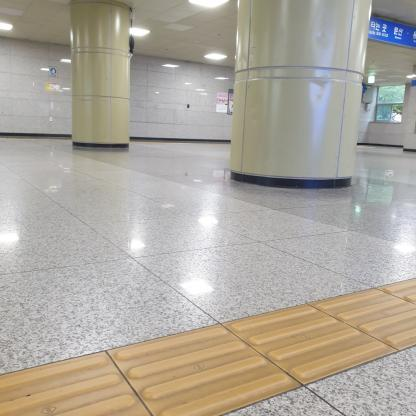go: (106, 323, 302, 416), (221, 304, 399, 385), (309, 287, 416, 351)
